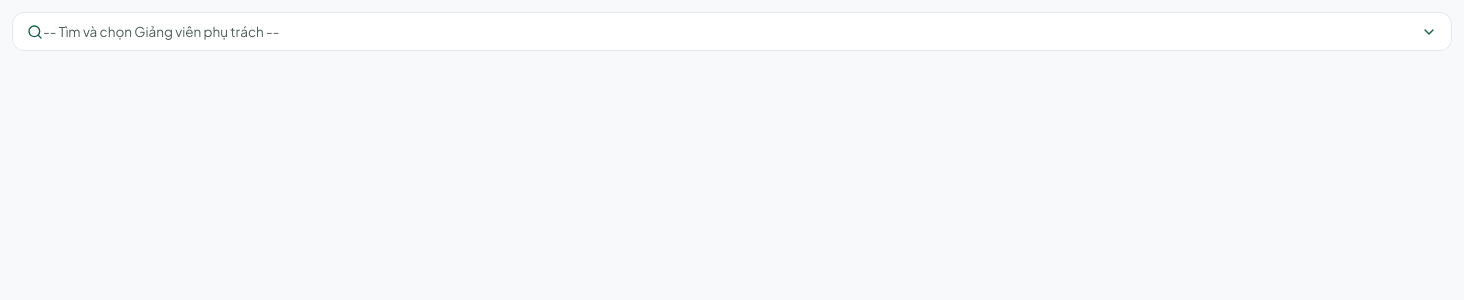
Scenario: TeacherPicker component › supports pagination / load more when hasMore is true
This screenshot has width=1464, height=300.
Click the button "-- Tìm và chọn Giảng viên phụ trách --": click(161, 32) [12,12,1452,51]
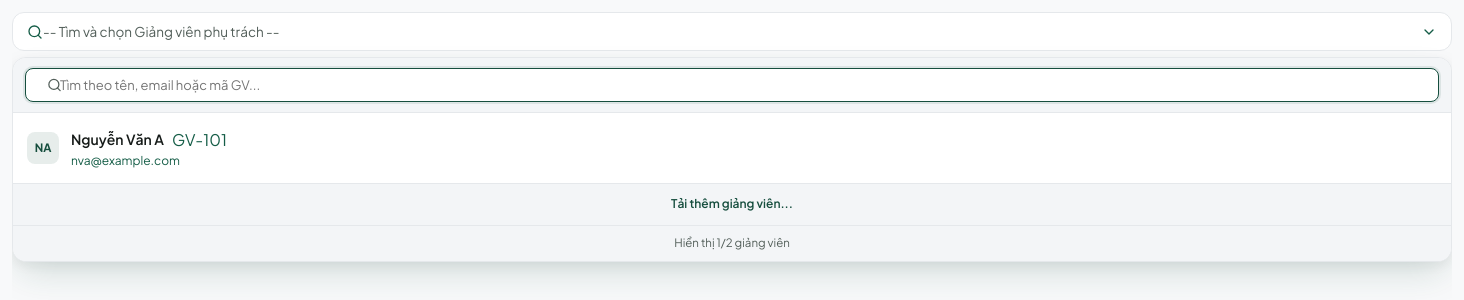
Now the button "Tải thêm giảng viên..." is shown
Click the button "Tải thêm giảng viên...": click(732, 205) [25,192,1439,217]
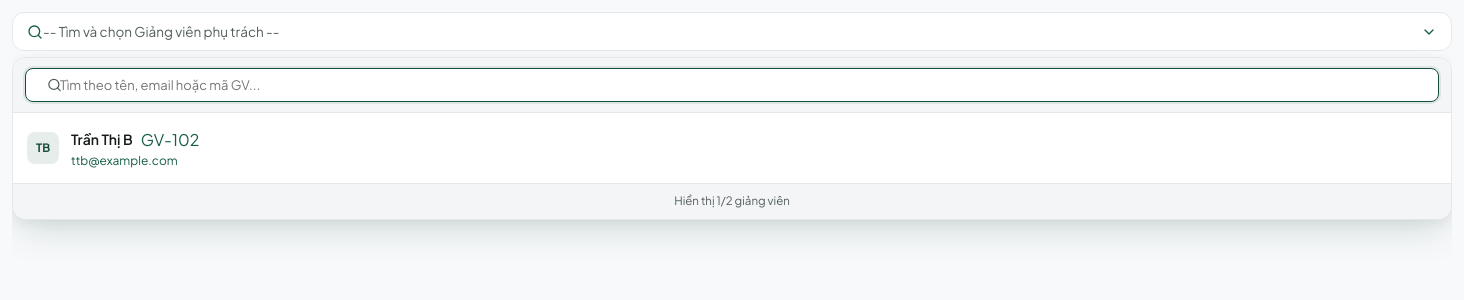
Now the text "Trần Thị B" is shown, box [71,129,133,150]
